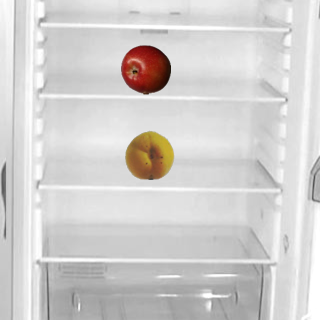Apple Braeburn: (120, 44, 170, 94)
Peach 2: (124, 129, 174, 179)
